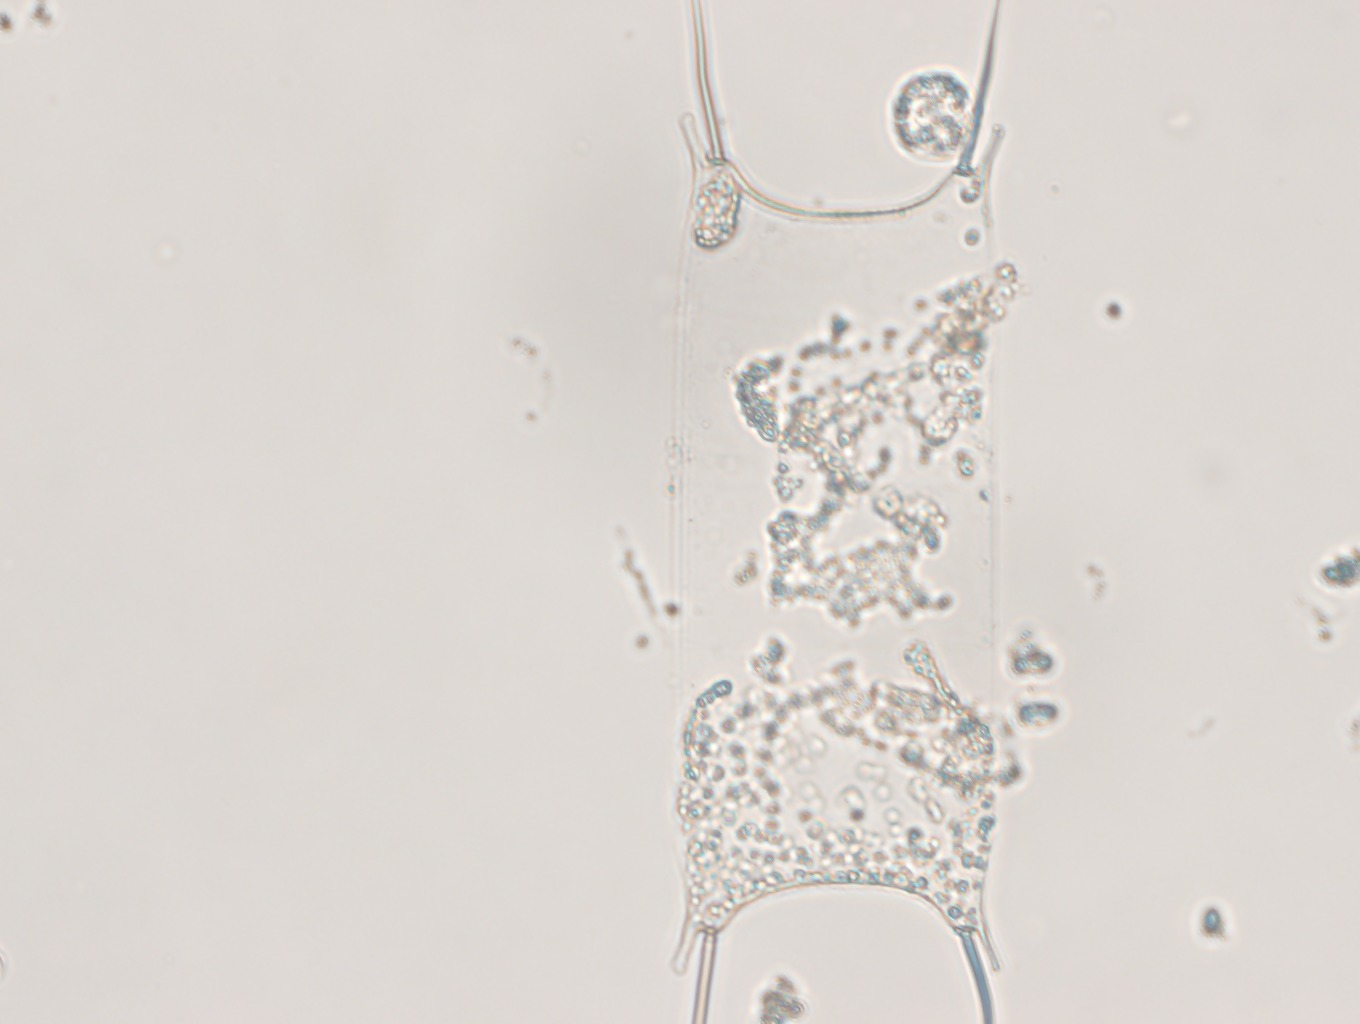biddulphia: (674, 1, 1005, 1024)
